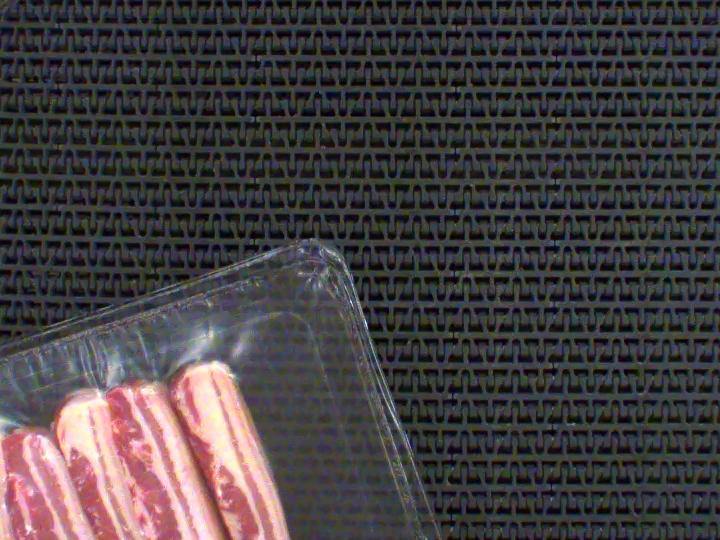unsealed: (0, 278, 410, 540)
